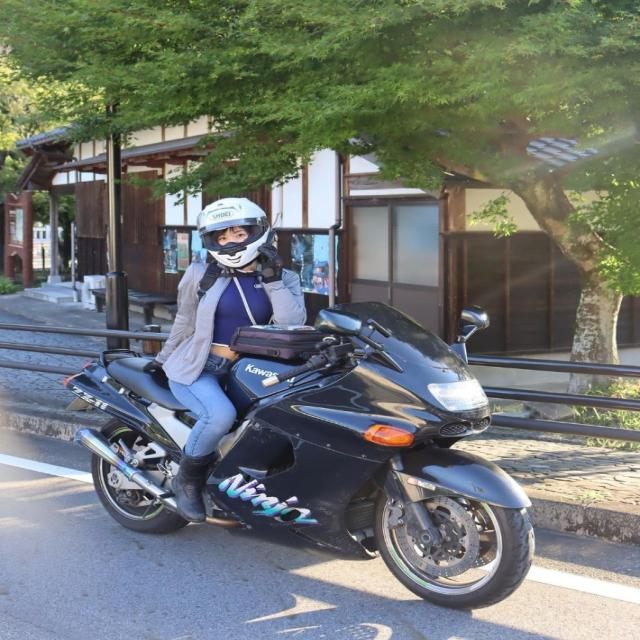helmet: (194, 195, 275, 272)
